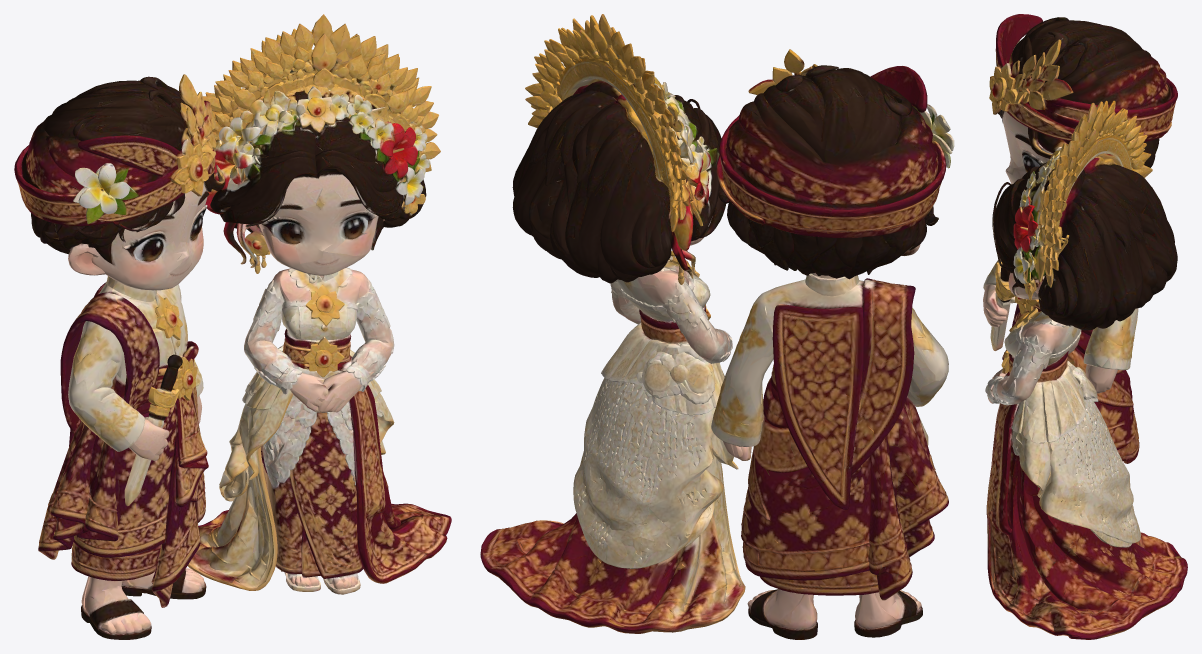
Rendered from couple.glb.
3 renders of one model, left to right at view 1: azimuth 30°, elevation 25°; view 2: azimuth 150°, elevation 25°; view 3: azimuth 270°, elevation 25°, orthographic. The views are drawn at different scales.
Visible parts, largest first — view 1: output_unwrapped; view 2: output_unwrapped; view 3: output_unwrapped.
Boxes of the visible parts, x1,y1,x2,y2 form: output_unwrapped: (14, 14, 451, 639); output_unwrapped: (480, 14, 954, 639); output_unwrapped: (983, 14, 1187, 639).
Bounding box in the file's own units: 1.57 × 1.9 × 0.7223.
1 material, 1 textured.
